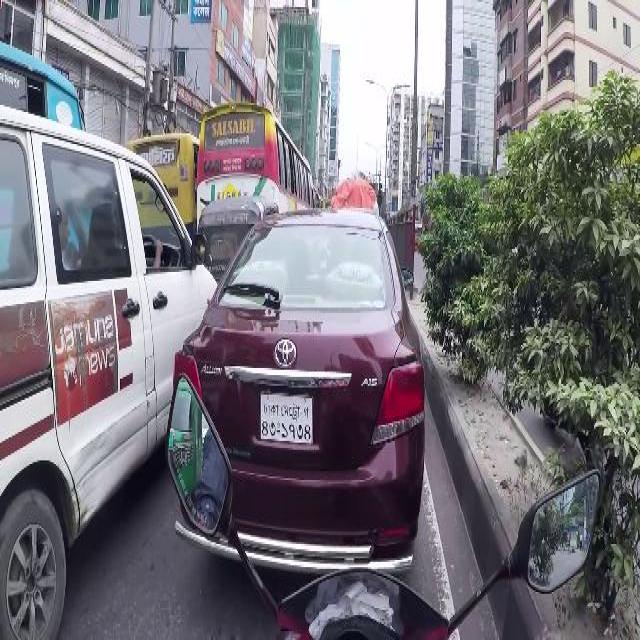bus: (198, 102, 312, 207), (0, 33, 80, 123), (130, 130, 196, 212)
car: (174, 207, 424, 554)
minivan: (1, 109, 229, 634)
motorbike: (168, 372, 600, 630)
three wheelers -CNG-: (197, 201, 275, 261)
